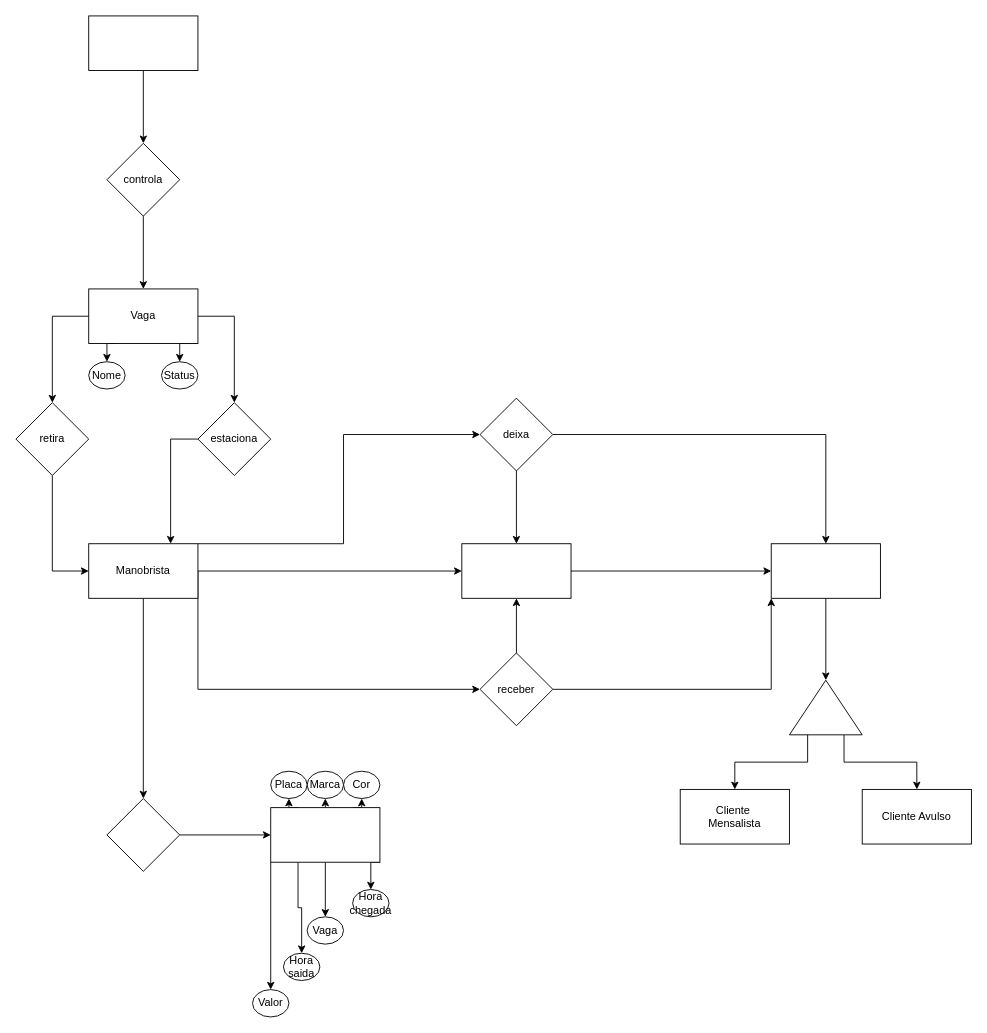
The diagram is 987 pixels wide and 1033 high, and some of its shapes have lost their labels. Each missing label, with the box of its shape:
Carro: (461, 543, 571, 598)
Cliente: (770, 543, 880, 598)
Comprovante: (270, 807, 380, 862)
Estacionamento: (88, 15, 198, 71)
registra: (106, 798, 180, 871)
